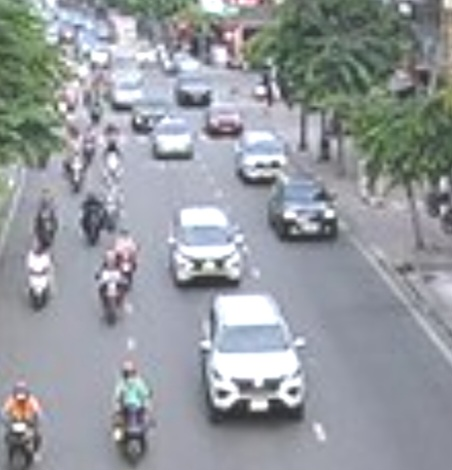car: (201, 295, 305, 419), (169, 206, 243, 288), (272, 178, 339, 243), (235, 129, 287, 182), (153, 118, 194, 161), (204, 103, 245, 139)
